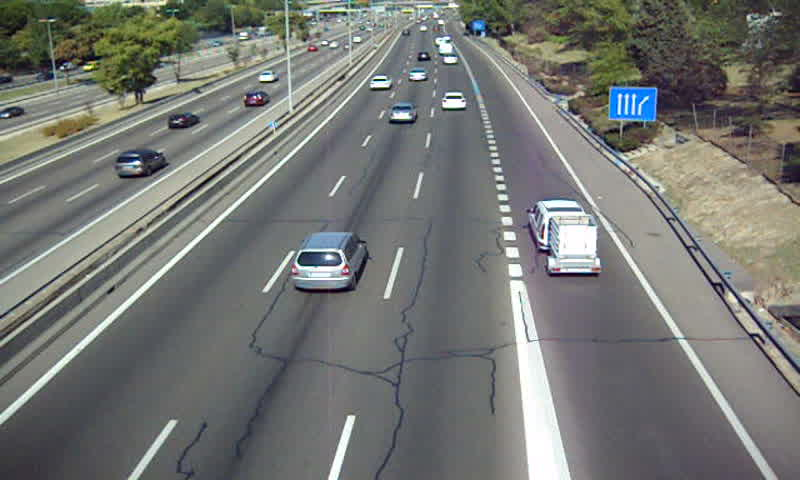car: (289, 231, 368, 291), (388, 103, 418, 125), (442, 91, 466, 111), (369, 74, 392, 91), (406, 68, 429, 83), (443, 53, 459, 65)
van: (527, 201, 589, 250)
